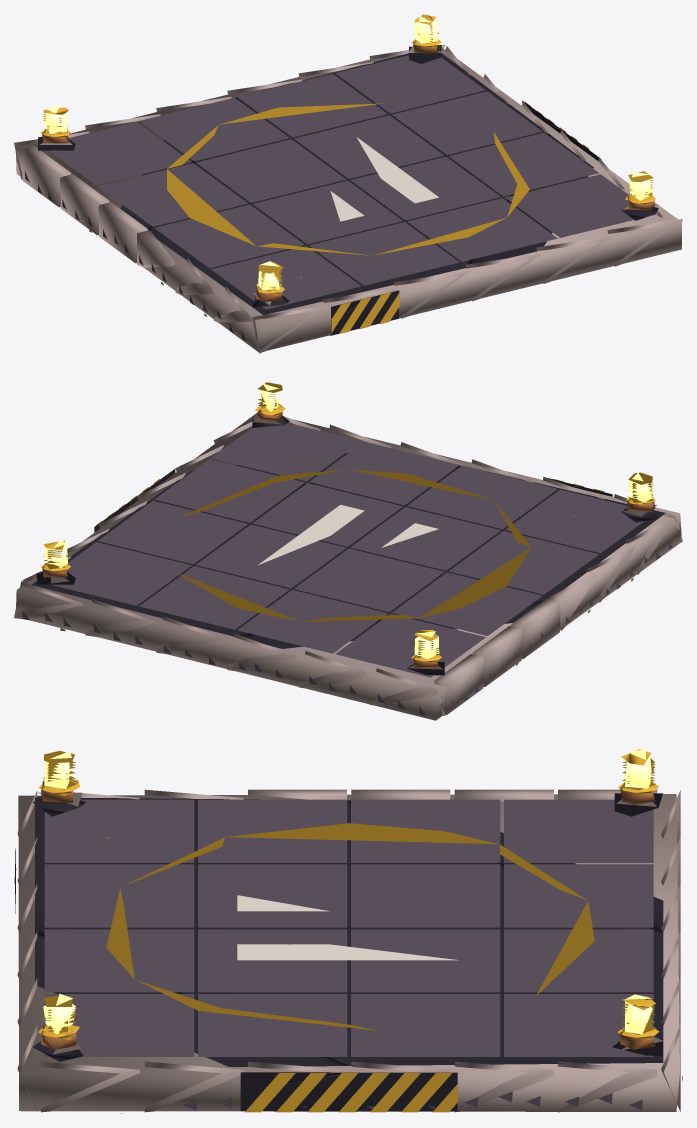
The picture shows the model from 3 angles, top to bottom: view 1: azimuth 30°, elevation 25°; view 2: azimuth 150°, elevation 25°; view 3: azimuth 270°, elevation 25°; orthographic projection. The views are drawn at different scales.
Bounding box in the file's own units: 10.05 × 1.6 × 10.05.
